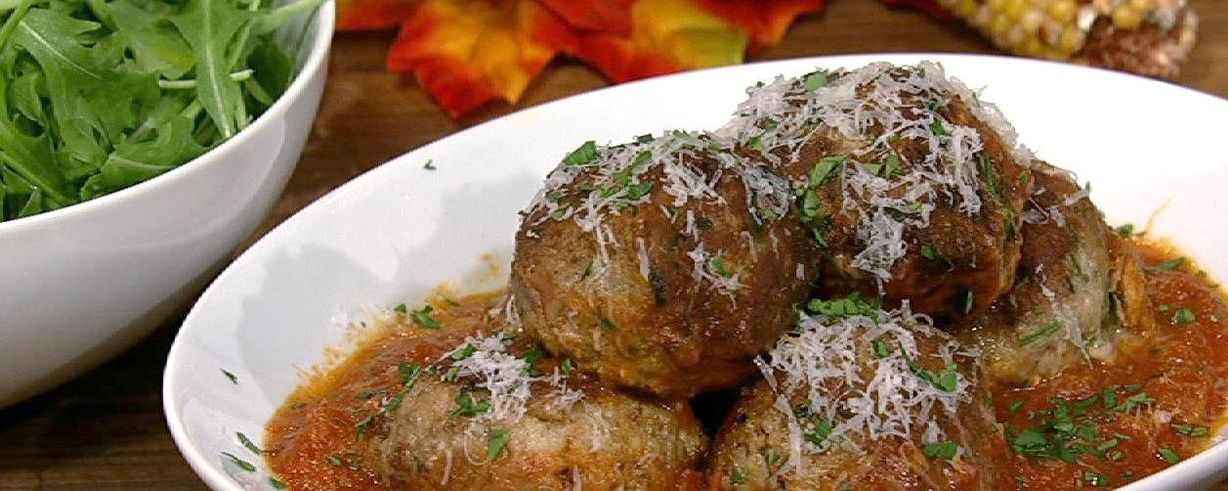meatballs: (367, 70, 1153, 491), (495, 134, 817, 382), (721, 74, 1021, 319)
